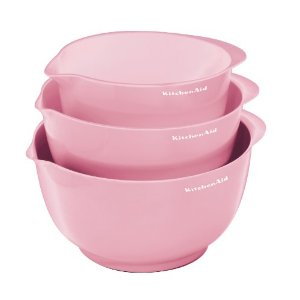Rec_Plastic: (31, 25, 263, 279)
